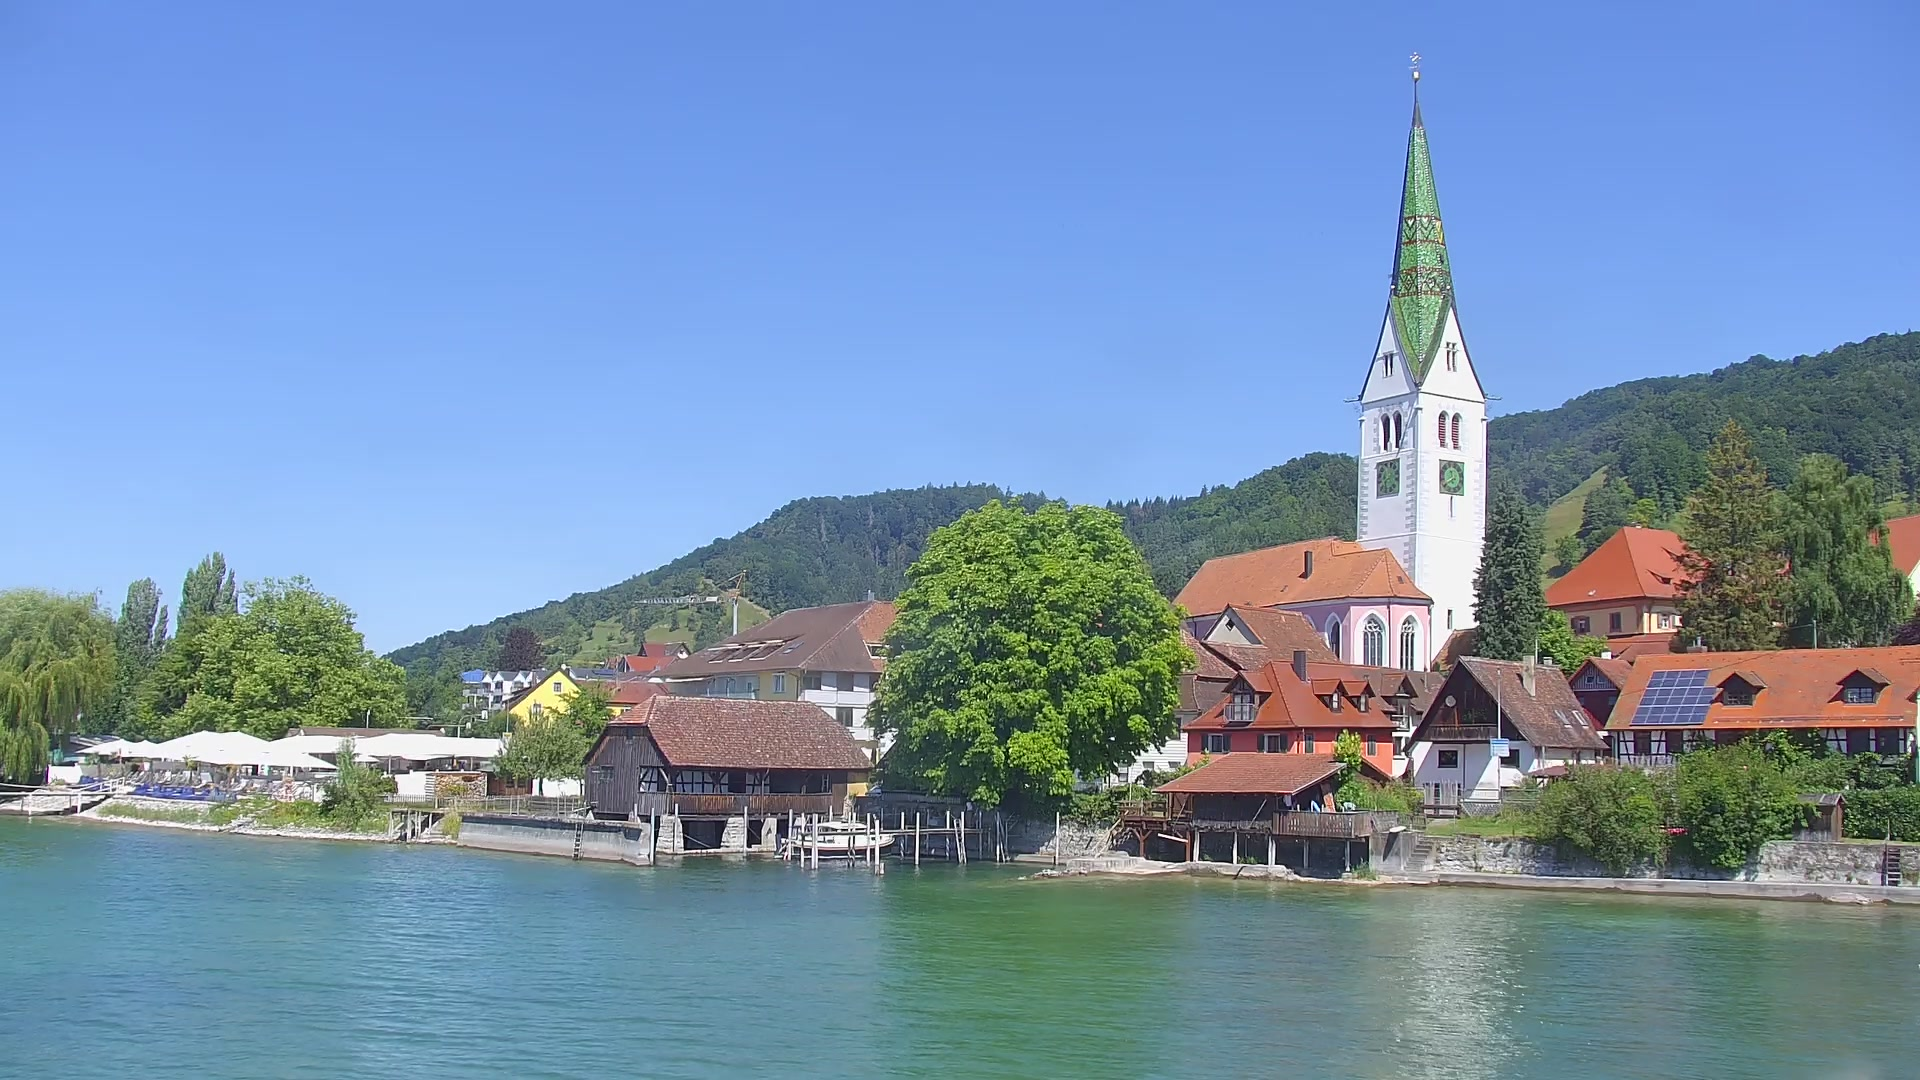sea: (779, 820, 895, 858)
